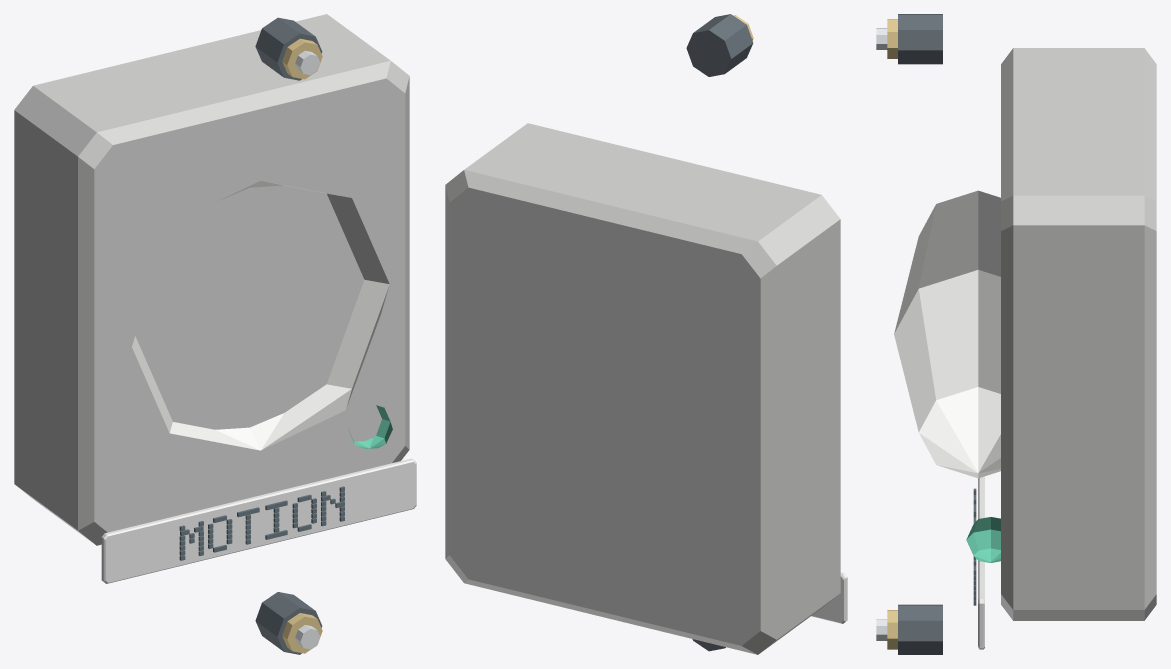
The model's file is motionSensor.glb.
The picture shows the model from 3 angles, left to right: view 1: azimuth 30°, elevation 25°; view 2: azimuth 150°, elevation 25°; view 3: azimuth 270°, elevation 25°; orthographic projection. The views are drawn at different scales.
Parts seen in each view (by area): view 1: motionSensor-board; view 2: motionSensor-board; view 3: motionSensor-board.
Boxes of the visible parts, x1,y1,x2,y2 form: motionSensor-board: (14, 14, 416, 654); motionSensor-board: (445, 14, 847, 654); motionSensor-board: (876, 14, 1156, 654).
Bounding box in the file's own units: 1.41 × 2.52 × 1.
